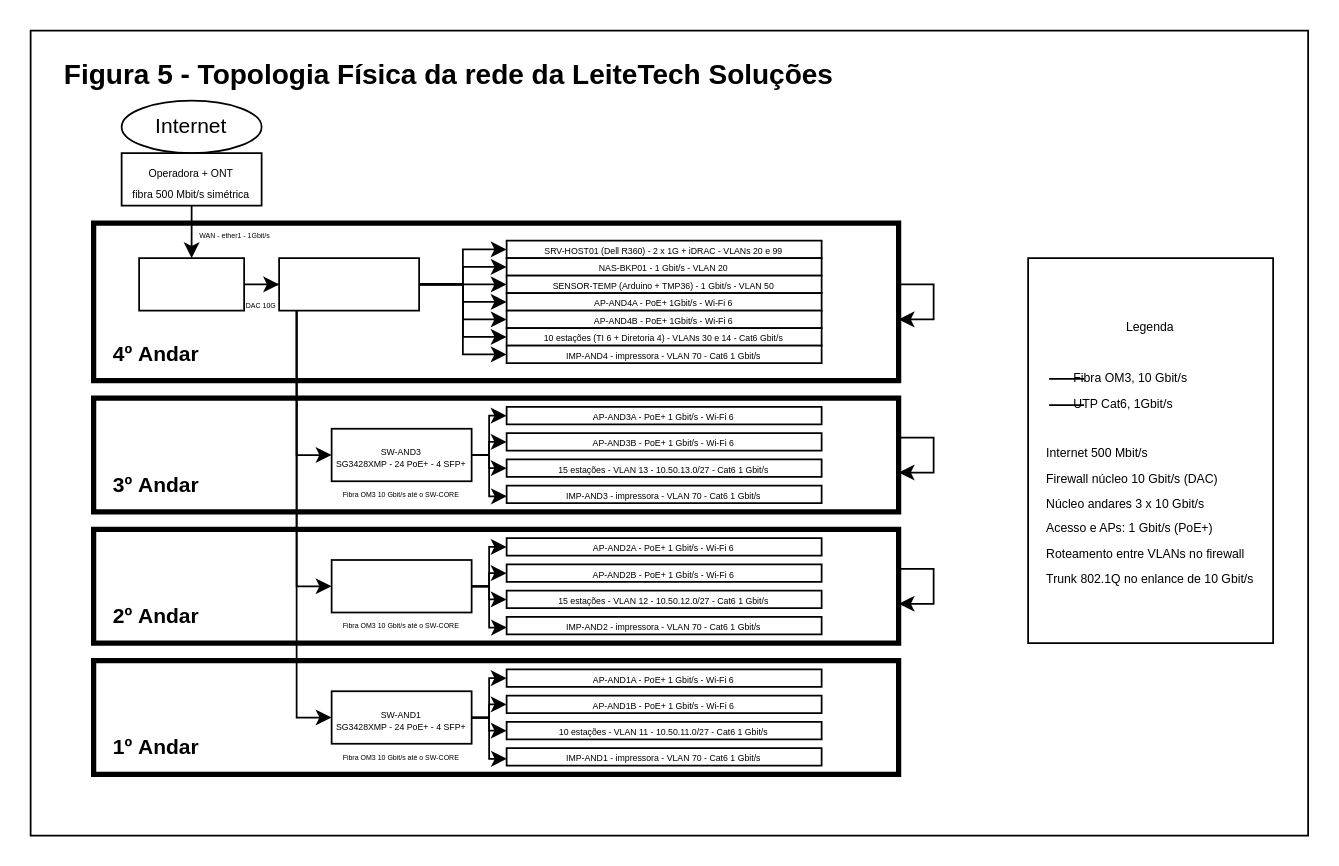
This 1339x866 diagram has some shape labels left out. Each missing label, with the centre of its shape:
"FW-LEITE01 MikroTik RB5009 Firewall e roteador" belongs at (190,283).
"SW-AND2 SG3428XMP - 24 PoE+ - 4 SFP+" belongs at (401,585).
"SW-CORE TP-Link Omada SG3428XMP 24 x 1G PoE+ - 4 x SFP+ 10G" belongs at (348,283).
